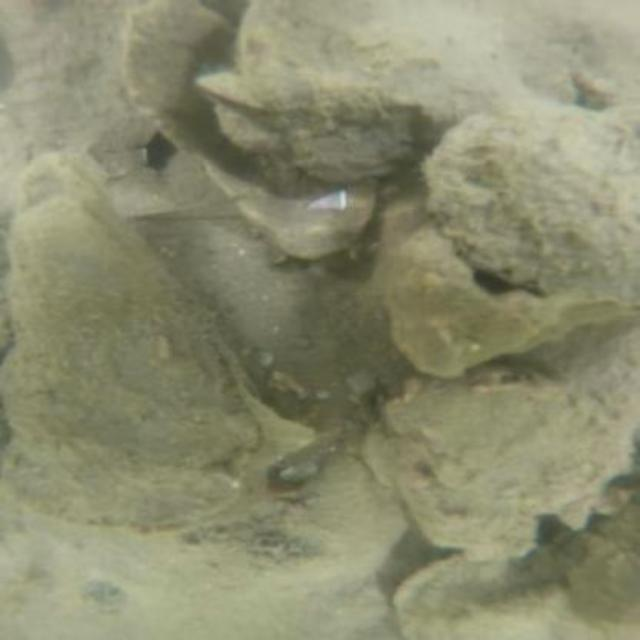Oyster-Closed: (6, 169, 256, 531), (118, 0, 377, 263), (230, 0, 575, 169), (407, 325, 638, 554), (425, 105, 627, 304), (192, 453, 392, 578)
Oyster-Open: (379, 200, 601, 383)
